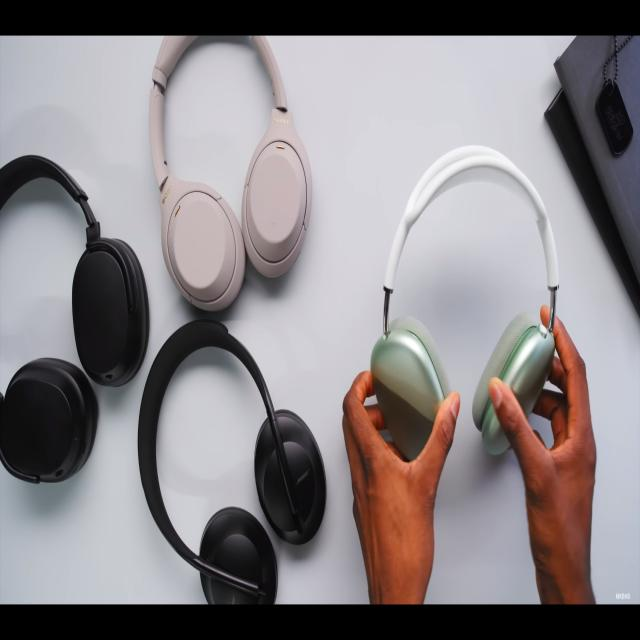Headphone: (370, 143, 560, 458), (137, 320, 326, 607), (2, 154, 151, 484), (150, 36, 312, 314)
